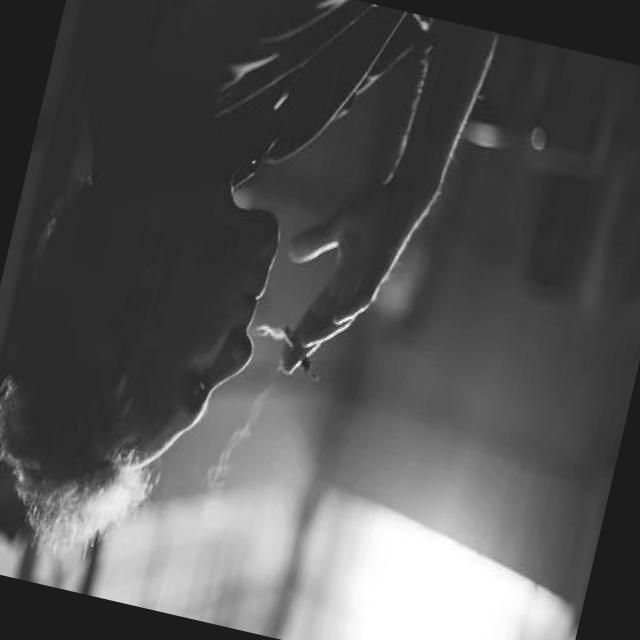smoke: (266, 321, 332, 393)
